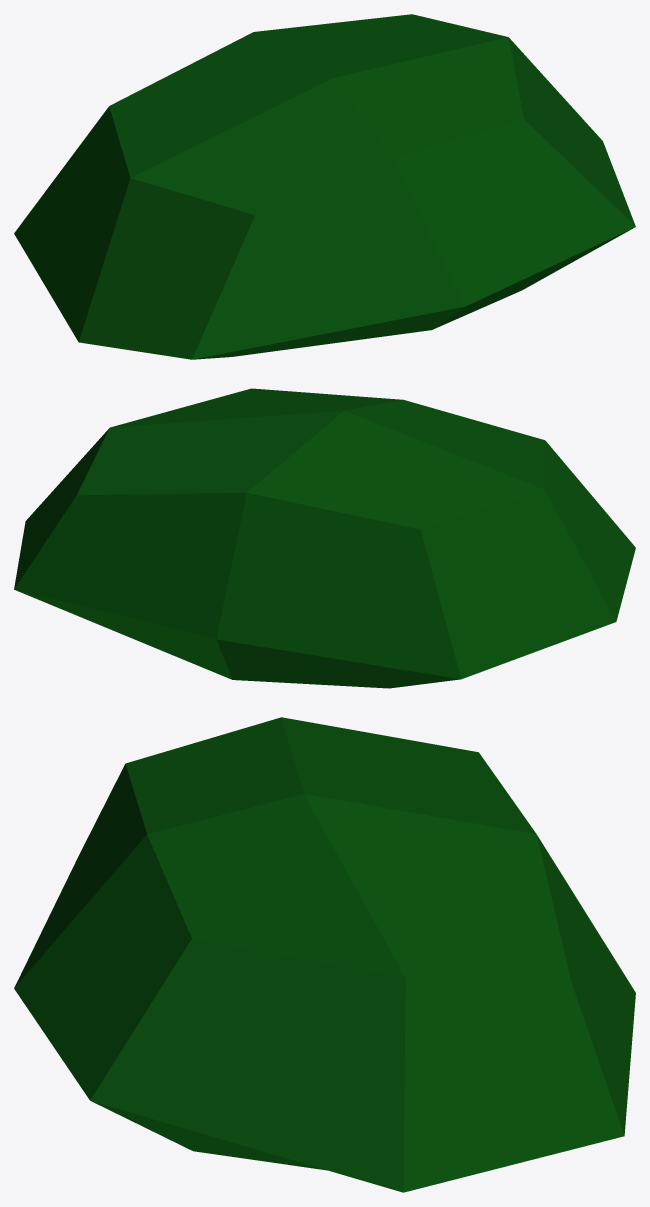
Rendered from bush3.fbx.
3 views of the same model, one above another, from view 1: azimuth 30°, elevation 25°; view 2: azimuth 150°, elevation 25°; view 3: azimuth 270°, elevation 25° (orthographic). The views are drawn at different scales.
Parts seen in each view (by area): view 1: Cube; view 2: Cube; view 3: Cube.
Boxes of the visible parts, left/top/right/bottom form: Cube: left=14, top=14, right=635, bottom=359; Cube: left=14, top=388, right=635, bottom=688; Cube: left=14, top=717, right=635, bottom=1192.
Size of the model in its own units: 357 by 139 by 263.
